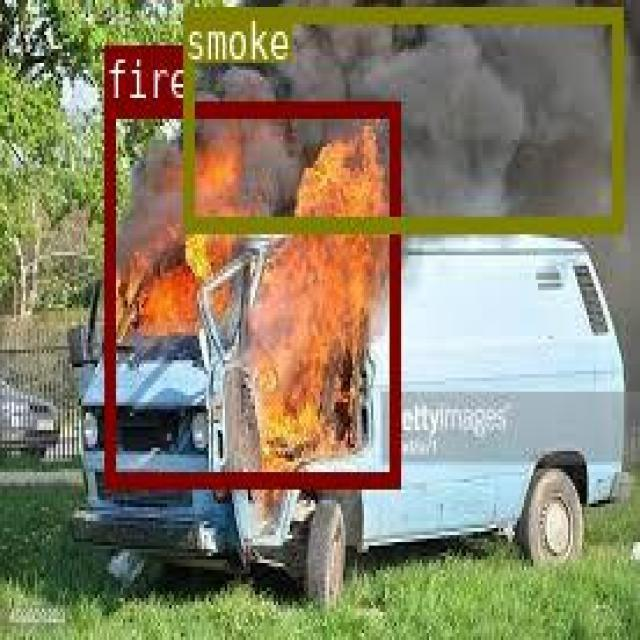fire: (103, 100, 397, 484)
smoke: (182, 6, 621, 230)
